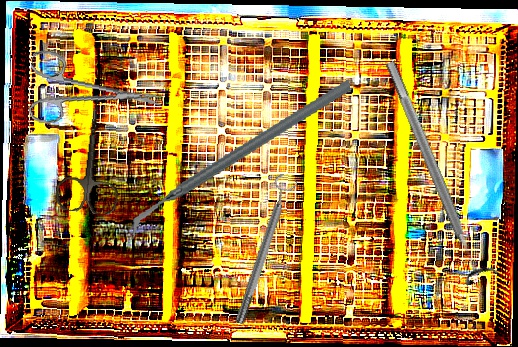Chopper: (112, 77, 369, 241)
Fixation Ring: (372, 54, 500, 288), (226, 172, 301, 327)
Iris Scissors: (23, 49, 167, 139), (54, 95, 129, 217)
